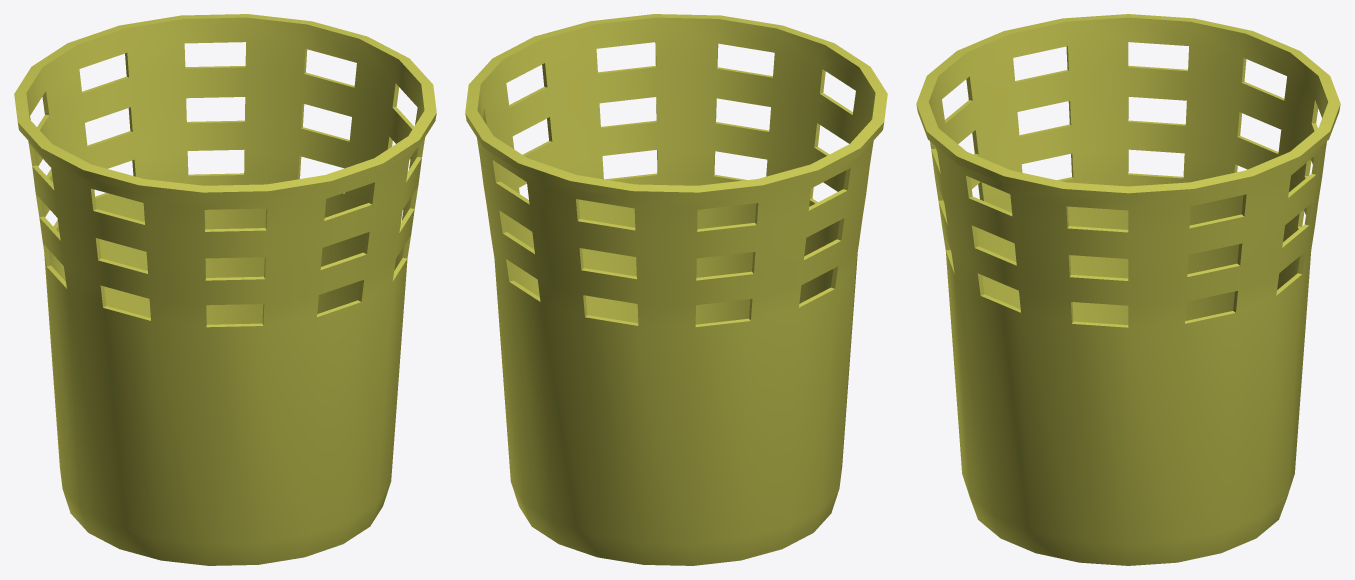
The model's file is Trash_Model.fbx.
The picture shows the model from 3 angles, left to right: view 1: azimuth 30°, elevation 25°; view 2: azimuth 150°, elevation 25°; view 3: azimuth 270°, elevation 25°; orthographic projection.
Parts seen in each view (by area): view 1: Bin; view 2: Bin; view 3: Bin.
Boxes of the visible parts, bbox=[...] form: Bin: bbox=[14, 14, 436, 565]; Bin: bbox=[465, 14, 887, 565]; Bin: bbox=[916, 14, 1340, 565].
Size of the model in its own units: 30.41 by 31.41 by 30.41.
